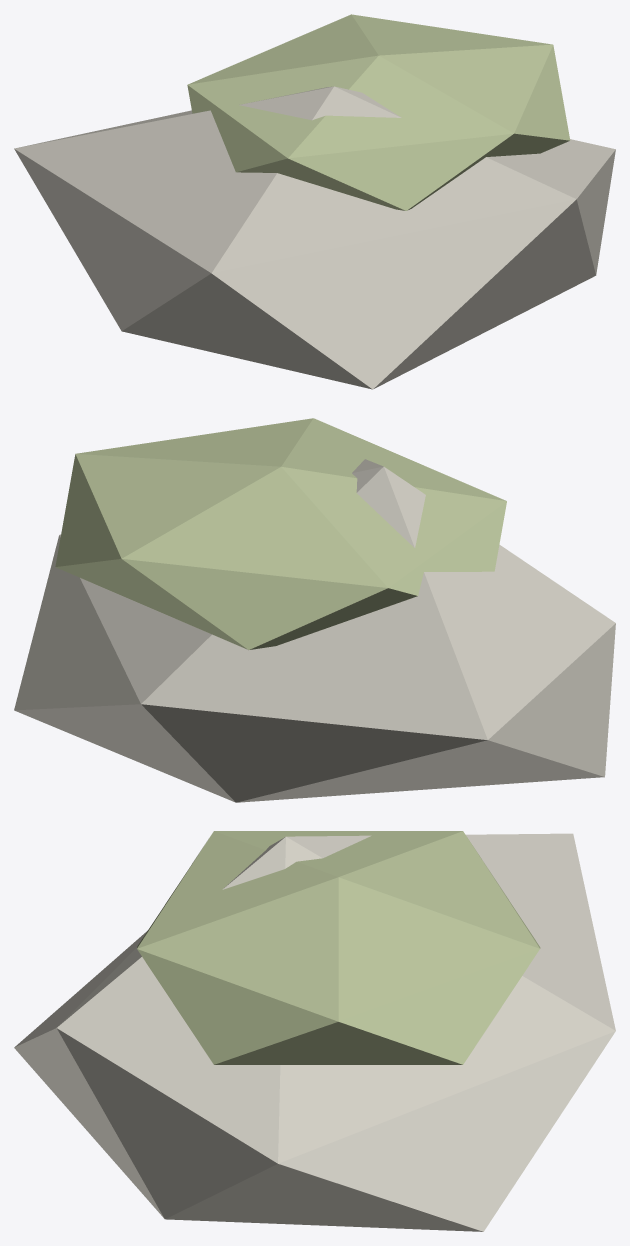
Rendered from boulder-a.glb.
3 views of the same model, one above another, from view 1: azimuth 30°, elevation 25°; view 2: azimuth 150°, elevation 25°; view 3: azimuth 270°, elevation 25° (orthographic). The views are drawn at different scales.
Parts seen in each view (by area): view 1: boulder-a; view 2: boulder-a; view 3: boulder-a.
Boxes of the visible parts, <box> form: boulder-a: <box>14,14,615,389</box>; boulder-a: <box>14,418,615,802</box>; boulder-a: <box>14,831,615,1231</box>.
Size of the model in its own units: 1.51 by 0.6155 by 1.32.
